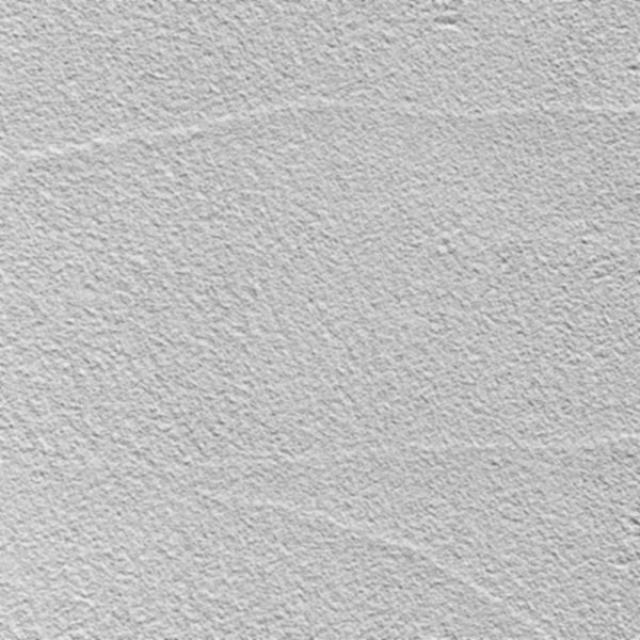trowels marks: (0, 413, 640, 640), (0, 54, 640, 188)
